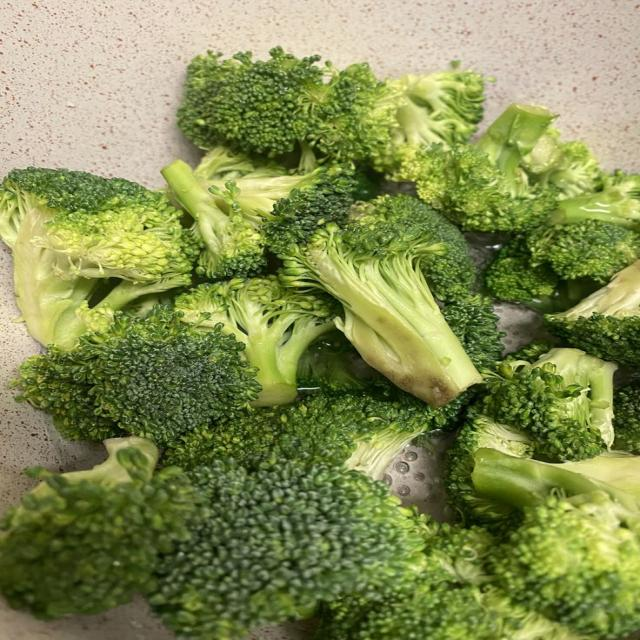broccoli: (150, 458, 425, 639), (280, 216, 480, 406), (178, 47, 484, 170), (0, 437, 200, 618), (0, 168, 194, 349), (14, 306, 259, 444), (315, 523, 583, 639), (447, 348, 616, 526), (164, 383, 460, 480), (178, 47, 395, 167), (162, 160, 354, 278), (175, 276, 341, 406), (493, 492, 639, 639), (397, 104, 556, 232), (453, 438, 639, 534), (477, 348, 617, 460), (350, 195, 476, 300), (372, 68, 485, 174), (545, 261, 639, 367), (484, 235, 598, 313), (527, 220, 639, 283), (298, 330, 390, 394), (524, 128, 604, 200), (299, 334, 390, 395), (552, 171, 639, 231), (484, 236, 559, 304), (442, 295, 505, 370), (613, 378, 640, 454)
